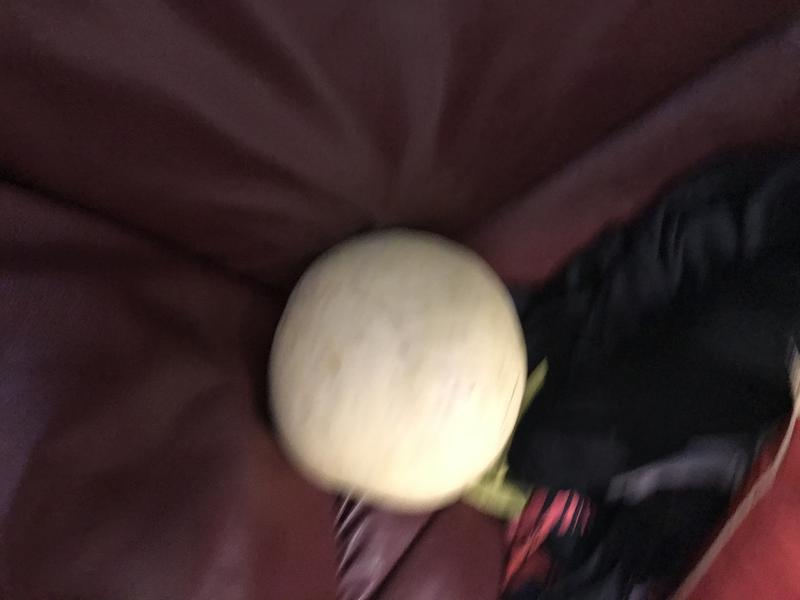honeydew: (255, 221, 541, 515)
